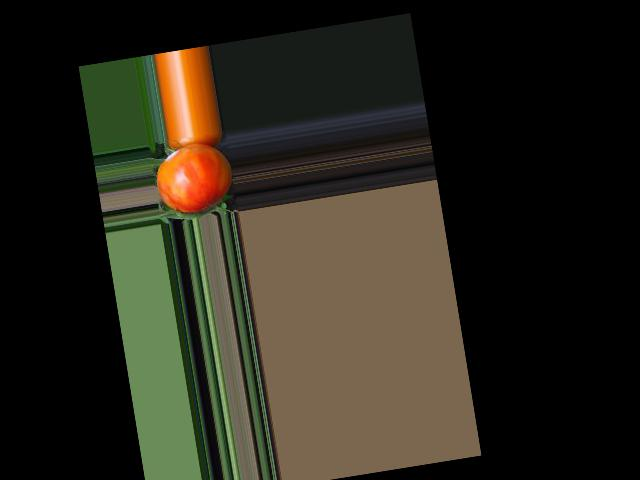tomato: (152, 139, 237, 217)
